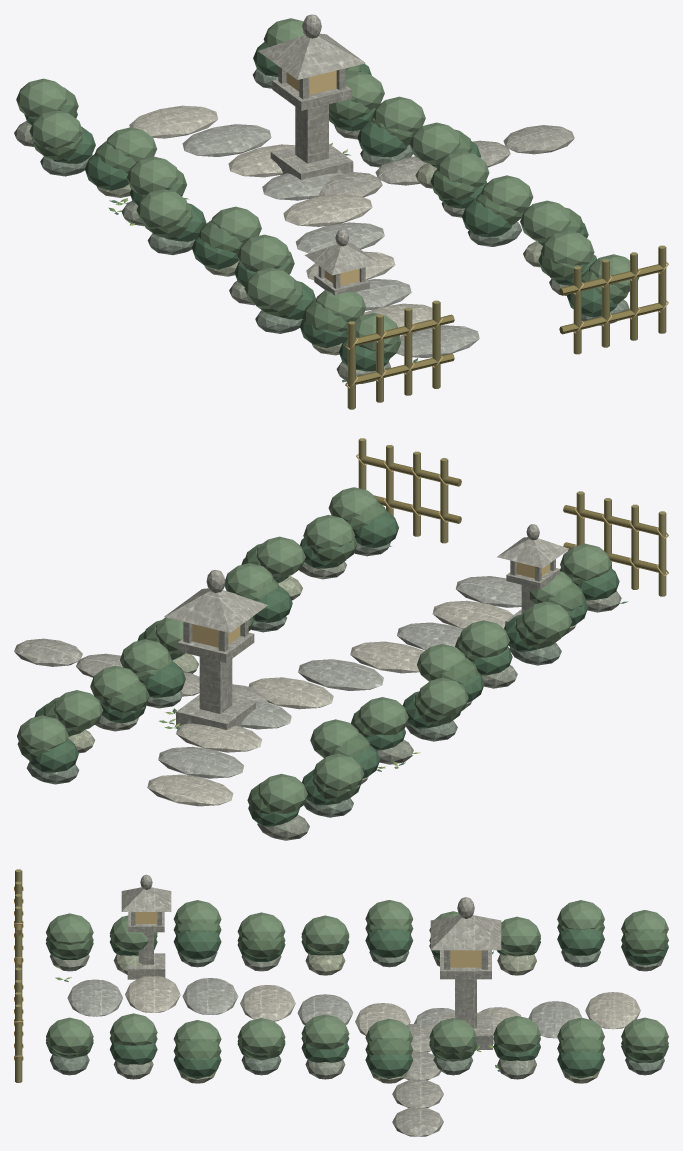
The model's file is shrine_garden-exterior-refined-v1.glb.
3 views of the same model, one above another, from view 1: azimuth 30°, elevation 25°; view 2: azimuth 150°, elevation 25°; view 3: azimuth 270°, elevation 25° (orthographic). The views are drawn at different scales.
Parts seen in each view (by area): view 1: shrine_garden_04_石材绿植与陈设_EX_789173_plain_surface, shrine_garden_04_石材绿植与陈设_EX_55745b_plain_surface, shrine_garden_04_石材绿植与陈设_EX_678063_plain_surface, shrine_garden_04_石材绿植与陈设_EX_a7aaa0_dark_rock_surface, shrine_garden_04_石材绿植与陈设_EX_b8b7a8_dark_rock_surface, shrine_garden_01_原有建筑轮廓与构件_EX_a4a49a_dark_rock_surface, shrine_garden_01_原有建筑轮廓与构件_EX_9d9665_plain_surface, shrine_garden_04_石材绿植与陈设_EX_a4a49a_dark_rock_surface, shrine_garden_02_屋顶瓦作_EX_a4a49a_dark_rock_surface, shrine_garden_04_石材绿植与陈设_EX_798779_dark_rock_surface, shrine_garden_01_原有建筑轮廓与构件_EX_8b8051_plain_surface, shrine_garden_04_石材绿植与陈设_EX_8c9384_dark_rock_surface (+3 smaller); view 2: shrine_garden_04_石材绿植与陈设_EX_789173_plain_surface, shrine_garden_04_石材绿植与陈设_EX_55745b_plain_surface, shrine_garden_04_石材绿植与陈设_EX_b8b7a8_dark_rock_surface, shrine_garden_04_石材绿植与陈设_EX_a7aaa0_dark_rock_surface, shrine_garden_04_石材绿植与陈设_EX_678063_plain_surface, shrine_garden_01_原有建筑轮廓与构件_EX_a4a49a_dark_rock_surface, shrine_garden_01_原有建筑轮廓与构件_EX_9d9665_plain_surface, shrine_garden_02_屋顶瓦作_EX_a4a49a_dark_rock_surface, shrine_garden_04_石材绿植与陈设_EX_798779_dark_rock_surface, shrine_garden_04_石材绿植与陈设_EX_a4a49a_dark_rock_surface, shrine_garden_04_石材绿植与陈设_EX_8c9384_dark_rock_surface, shrine_garden_01_原有建筑轮廓与构件_EX_8b8051_plain_surface (+2 smaller); view 3: shrine_garden_04_石材绿植与陈设_EX_789173_plain_surface, shrine_garden_04_石材绿植与陈设_EX_55745b_plain_surface, shrine_garden_04_石材绿植与陈设_EX_678063_plain_surface, shrine_garden_04_石材绿植与陈设_EX_b8b7a8_dark_rock_surface, shrine_garden_04_石材绿植与陈设_EX_a7aaa0_dark_rock_surface, shrine_garden_01_原有建筑轮廓与构件_EX_a4a49a_dark_rock_surface, shrine_garden_04_石材绿植与陈设_EX_a4a49a_dark_rock_surface, shrine_garden_02_屋顶瓦作_EX_a4a49a_dark_rock_surface, shrine_garden_04_石材绿植与陈设_EX_798779_dark_rock_surface, shrine_garden_04_石材绿植与陈设_EX_8c9384_dark_rock_surface, shrine_garden_04_石材绿植与陈设_EX_9aa18b_dark_rock_surface, shrine_garden_01_原有建筑轮廓与构件_EX_9d9665_plain_surface (+1 smaller).
Boxes of the visible parts, box(x1,y1,x2,y2) form: shrine_garden_04_石材绿植与陈设_EX_789173_plain_surface: box(16, 18, 639, 350); shrine_garden_04_石材绿植与陈设_EX_55745b_plain_surface: box(24, 42, 617, 371); shrine_garden_04_石材绿植与陈设_EX_678063_plain_surface: box(32, 64, 628, 359); shrine_garden_04_石材绿植与陈设_EX_a7aaa0_dark_rock_surface: box(182, 124, 479, 357); shrine_garden_04_石材绿植与陈设_EX_b8b7a8_dark_rock_surface: box(129, 105, 432, 327); shrine_garden_01_原有建筑轮廓与构件_EX_a4a49a_dark_rock_surface: box(270, 66, 369, 295); shrine_garden_01_原有建筑轮廓与构件_EX_9d9665_plain_surface: box(347, 245, 666, 409); shrine_garden_04_石材绿植与陈设_EX_a4a49a_dark_rock_surface: box(302, 14, 574, 246); shrine_garden_02_屋顶瓦作_EX_a4a49a_dark_rock_surface: box(258, 33, 379, 275); shrine_garden_04_石材绿植与陈设_EX_798779_dark_rock_surface: box(40, 69, 629, 333); shrine_garden_01_原有建筑轮廓与构件_EX_8b8051_plain_surface: box(355, 264, 663, 384); shrine_garden_04_石材绿植与陈设_EX_8c9384_dark_rock_surface: box(14, 121, 569, 383); shrine_garden_04_石材绿植与陈设_EX_789173_plain_surface: box(17, 487, 611, 813); shrine_garden_04_石材绿植与陈设_EX_55745b_plain_surface: box(29, 510, 619, 826); shrine_garden_04_石材绿植与陈设_EX_b8b7a8_dark_rock_surface: box(147, 600, 512, 806); shrine_garden_04_石材绿植与陈设_EX_a7aaa0_dark_rock_surface: box(158, 576, 521, 778); shrine_garden_04_石材绿植与陈设_EX_678063_plain_surface: box(17, 502, 591, 813); shrine_garden_01_原有建筑轮廓与构件_EX_a4a49a_dark_rock_surface: box(176, 559, 559, 729); shrine_garden_01_原有建筑轮廓与构件_EX_9d9665_plain_surface: box(358, 438, 666, 596); shrine_garden_02_屋顶瓦作_EX_a4a49a_dark_rock_surface: box(164, 537, 569, 632); shrine_garden_04_石材绿植与陈设_EX_798779_dark_rock_surface: box(26, 542, 561, 817); shrine_garden_04_石材绿植与陈设_EX_a4a49a_dark_rock_surface: box(14, 524, 539, 702); shrine_garden_04_石材绿植与陈设_EX_8c9384_dark_rock_surface: box(95, 561, 621, 840); shrine_garden_01_原有建筑轮廓与构件_EX_8b8051_plain_surface: box(361, 456, 659, 572); shrine_garden_04_石材绿植与陈设_EX_789173_plain_surface: box(46, 900, 668, 1055); shrine_garden_04_石材绿植与陈设_EX_55745b_plain_surface: box(46, 929, 668, 1078); shrine_garden_04_石材绿植与陈设_EX_678063_plain_surface: box(46, 921, 668, 1062); shrine_garden_04_石材绿植与陈设_EX_b8b7a8_dark_rock_surface: box(125, 976, 640, 1043); shrine_garden_04_石材绿植与陈设_EX_a7aaa0_dark_rock_surface: box(67, 978, 582, 1038); shrine_garden_01_原有建筑轮廓与构件_EX_a4a49a_dark_rock_surface: box(127, 912, 492, 1049); shrine_garden_04_石材绿植与陈设_EX_a4a49a_dark_rock_surface: box(140, 874, 474, 1136); shrine_garden_02_屋顶瓦作_EX_a4a49a_dark_rock_surface: box(121, 887, 501, 950); shrine_garden_04_石材绿植与陈设_EX_798779_dark_rock_surface: box(50, 950, 664, 1075); shrine_garden_04_石材绿植与陈设_EX_8c9384_dark_rock_surface: box(50, 954, 664, 1079); shrine_garden_04_石材绿植与陈设_EX_9aa18b_dark_rock_surface: box(113, 954, 600, 1083); shrine_garden_01_原有建筑轮廓与构件_EX_9d9665_plain_surface: box(15, 869, 22, 1082).
Bounding box in the file's own units: 11.57 × 3.98 × 16.4.
15 materials, 8 textured.
